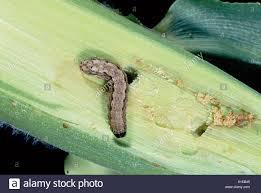fallarmy_worm: (74, 54, 140, 142)
